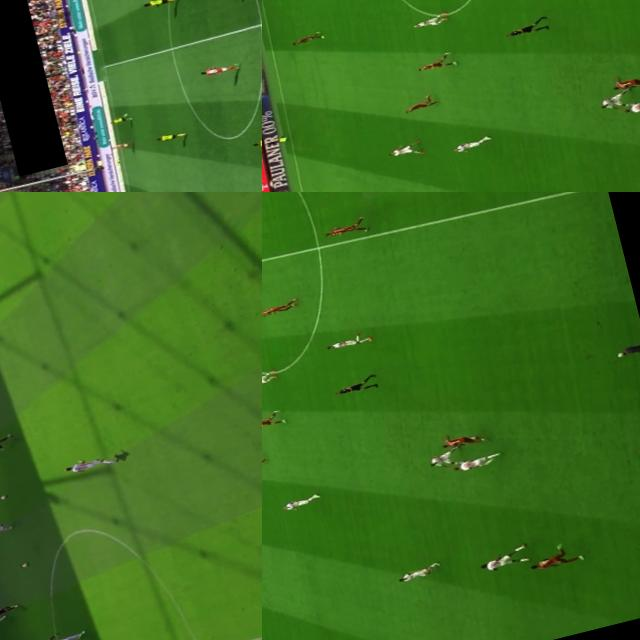ball: (18, 560, 31, 568), (0, 493, 9, 501), (466, 434, 476, 440), (637, 76, 640, 82)
player: (522, 542, 586, 574), (471, 546, 530, 574), (318, 216, 372, 242), (450, 450, 503, 476), (61, 451, 118, 474), (394, 561, 449, 584), (412, 53, 457, 77), (594, 88, 634, 114), (422, 446, 462, 472), (324, 331, 374, 351), (446, 134, 491, 156), (275, 492, 320, 514), (439, 430, 481, 452), (406, 12, 449, 32), (398, 94, 438, 115), (198, 59, 240, 78), (262, 298, 297, 320), (380, 140, 418, 160), (288, 29, 328, 48), (39, 627, 90, 640), (610, 72, 640, 94), (262, 411, 285, 435), (101, 110, 132, 126), (621, 91, 640, 117), (104, 139, 134, 155), (0, 600, 24, 620), (155, 129, 186, 142), (262, 369, 278, 389), (139, 0, 171, 9), (248, 132, 262, 150), (0, 434, 10, 455), (0, 521, 8, 537)
